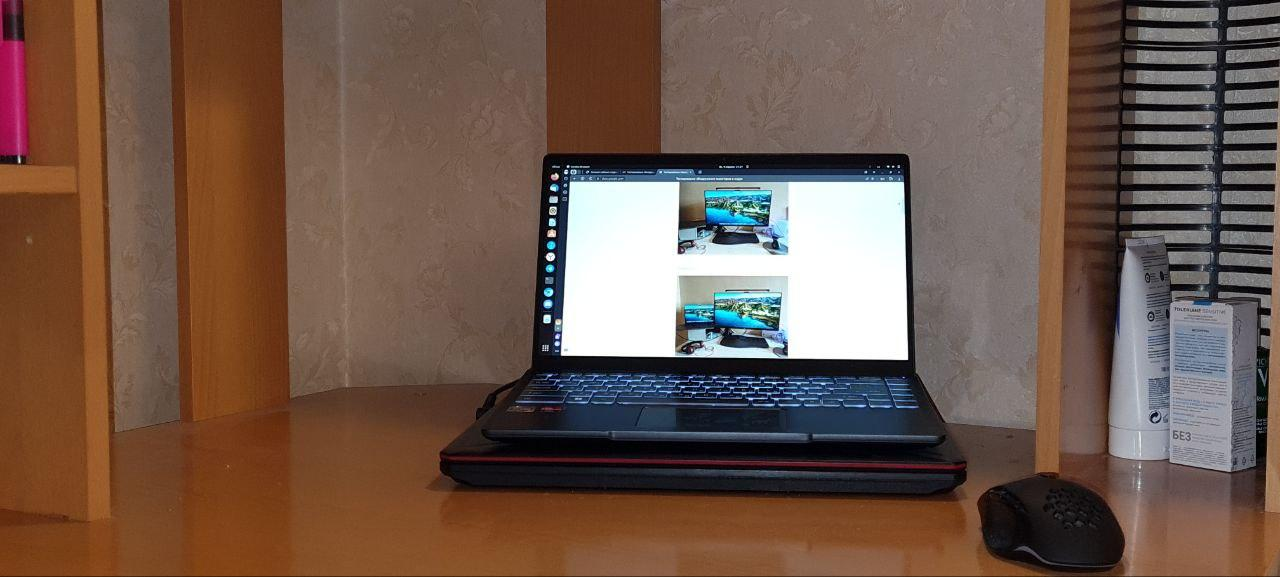monitor: (532, 147, 918, 378)
